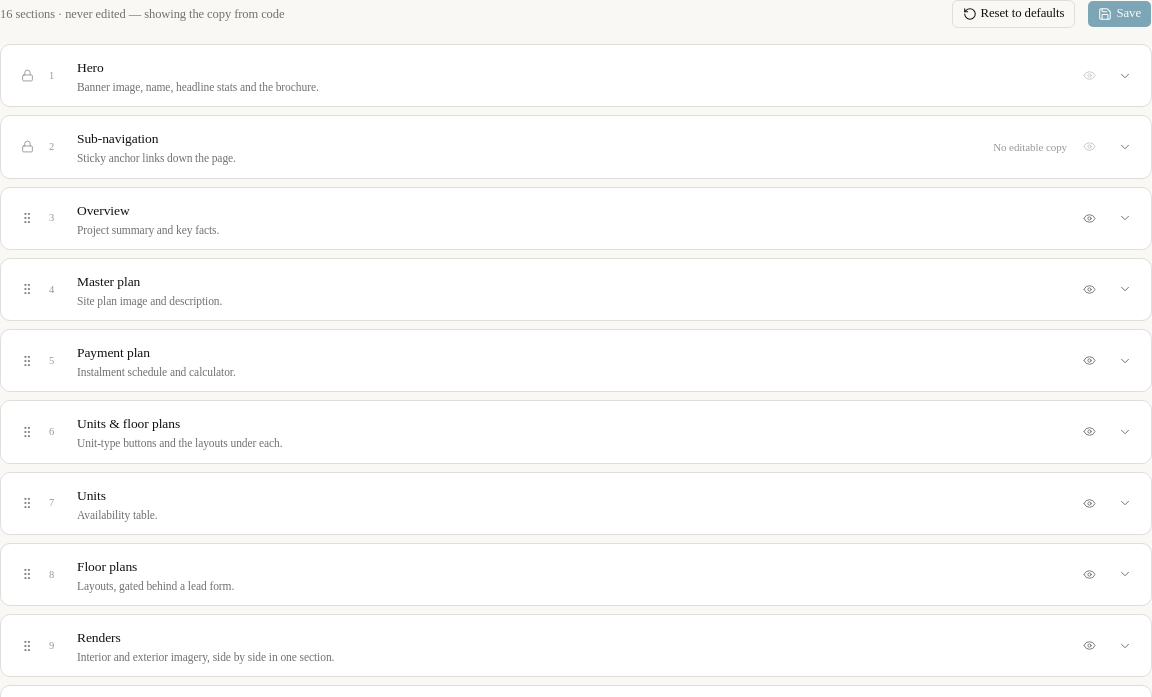
Scenario: the Hero section's banner picker › is offered in the sub-page editor
What coordinates should you click on to do the following:
click the 1st button named "Expand"
I would click on:
 (1125, 76)
Its box is [1111,62,1139,90].
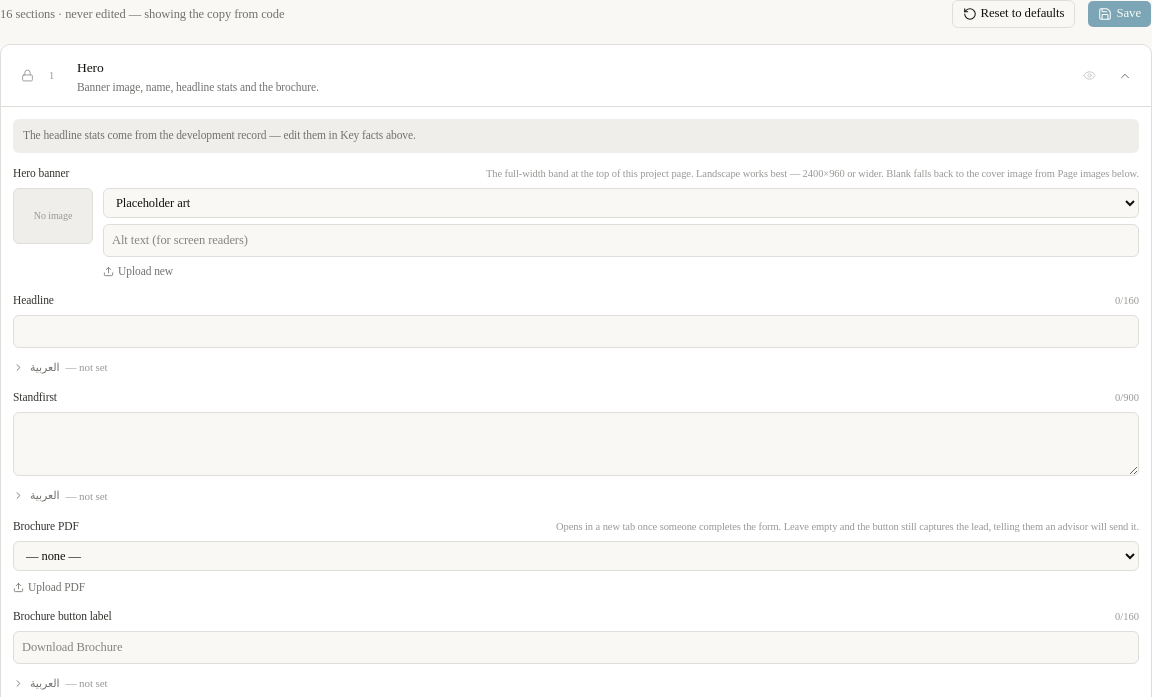
Expected: the text "Hero banner" is shown, [13,164,69,182]
